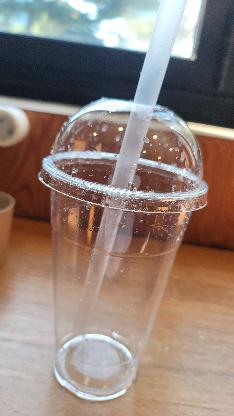Plastic Cup: (36, 94, 210, 404), (36, 94, 212, 214)
